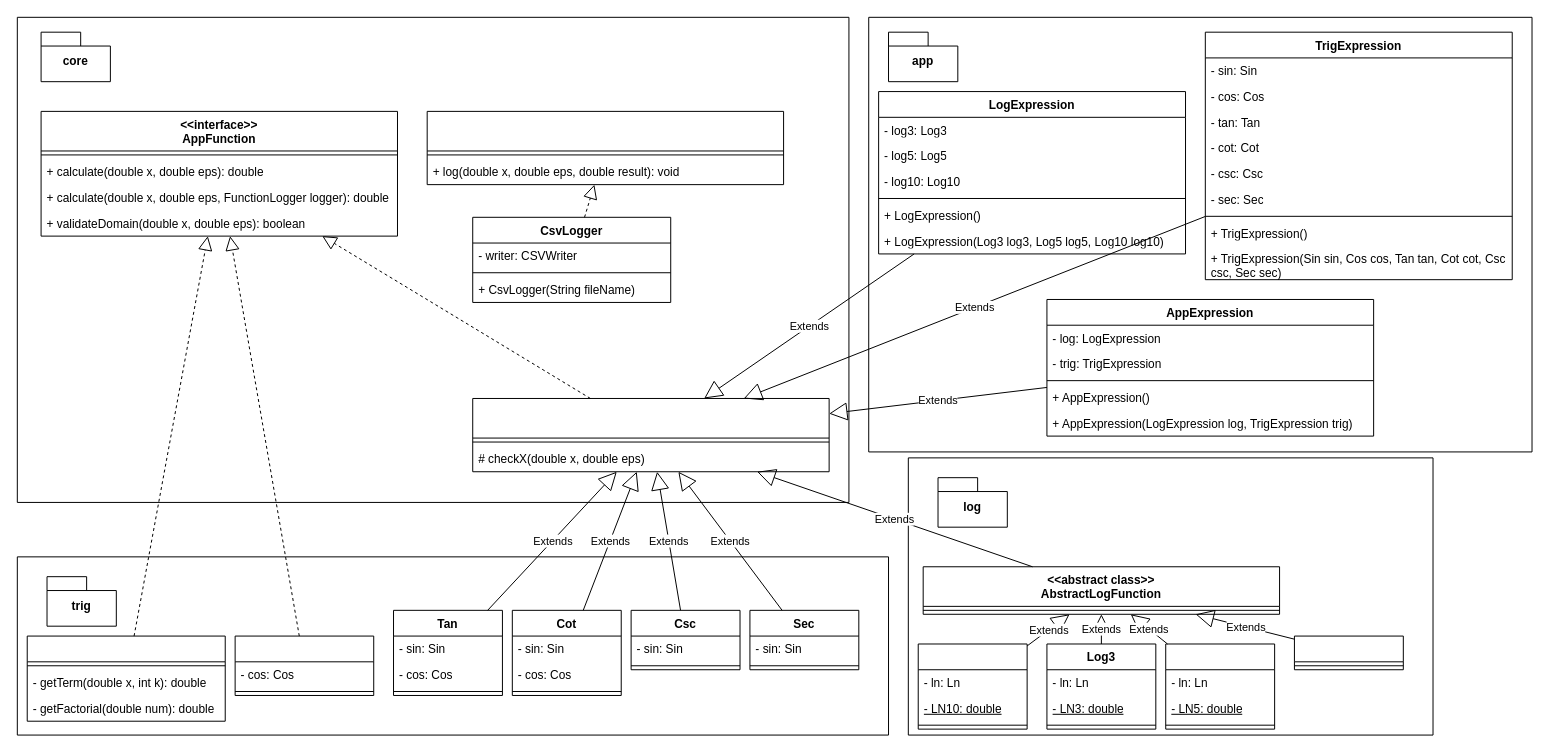
The diagram is 1549 pixels wide and 752 high, and some of its shapes have lost their labels. Here are the shapes that lost their labels. From the top down, the box of each, then its label:
(426, 110, 784, 185): <<interface>> FunctionLogger
(472, 397, 829, 472): <<abstract class>> AbstractAppFunction
(234, 635, 374, 695): SIn
(1293, 635, 1403, 670): Ln
(26, 635, 225, 721): Cos
(917, 643, 1027, 729): Log10
(1165, 643, 1275, 729): Log5
